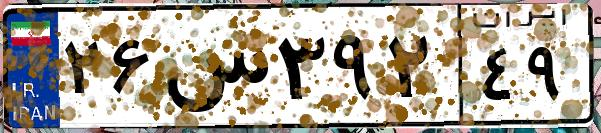2: (385, 28, 445, 110), (57, 26, 110, 100)
3: (270, 28, 330, 110)
4: (475, 38, 525, 113)
6: (110, 28, 158, 98)
9: (330, 28, 385, 110), (525, 38, 570, 115)
س: (158, 20, 270, 120)
